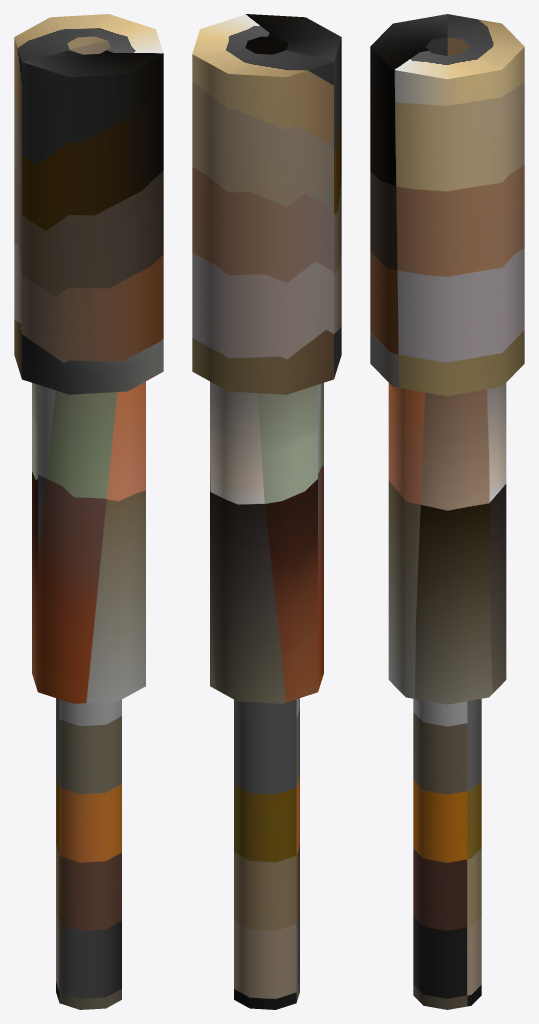
The model's file is HangingLight_01.fbx.
3 renders of one model, left to right at view 1: azimuth 30°, elevation 25°; view 2: azimuth 150°, elevation 25°; view 3: azimuth 270°, elevation 25°, orthographic.
Parts seen in each view (by area): view 1: MiniChandelierHangingLight; view 2: MiniChandelierHangingLight; view 3: MiniChandelierHangingLight.
Part boxes in pixels (box(x1,y1,x2,y2)): MiniChandelierHangingLight: box(14, 14, 163, 1009); MiniChandelierHangingLight: box(192, 14, 341, 1009); MiniChandelierHangingLight: box(370, 14, 524, 1009).
Bounding box in the file's own units: 57.29 × 388 × 57.29.
